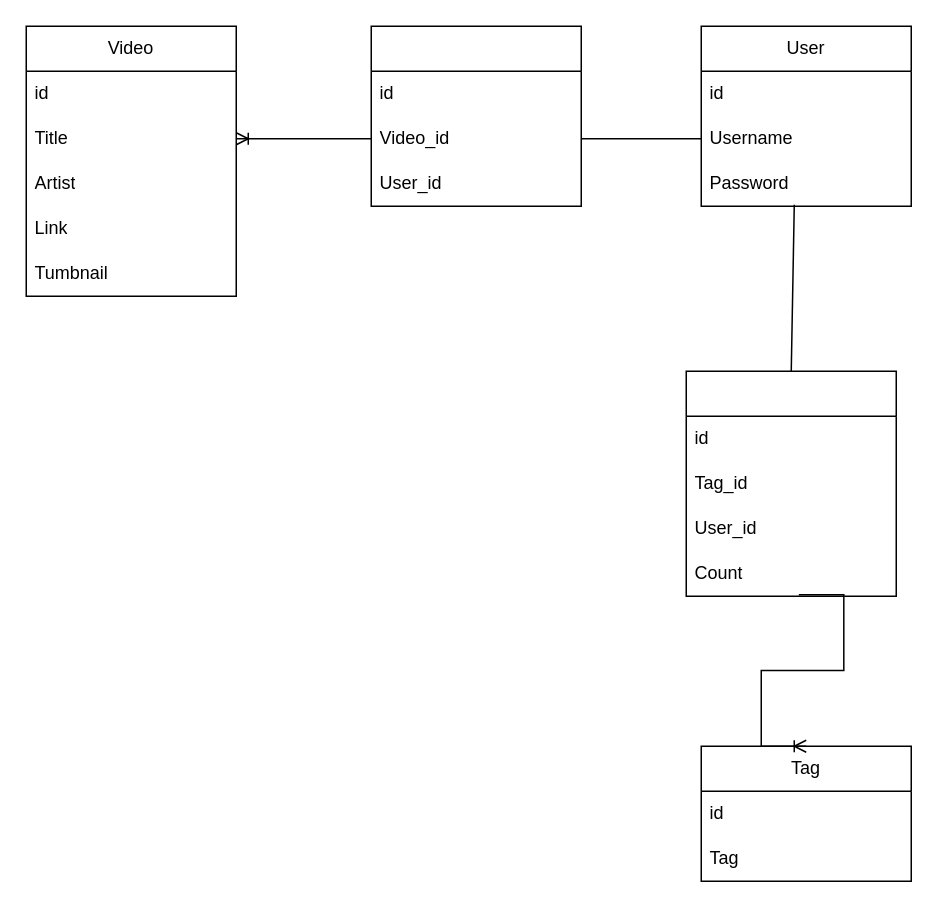
The diagram is 938 pixels wide and 908 high, and some of its shapes have lost their labels. Here are the shapes that lost their labels. From the top down, the box of each, then its label:
(370, 25, 581, 206): Favorites
(685, 370, 896, 596): User_Tags
